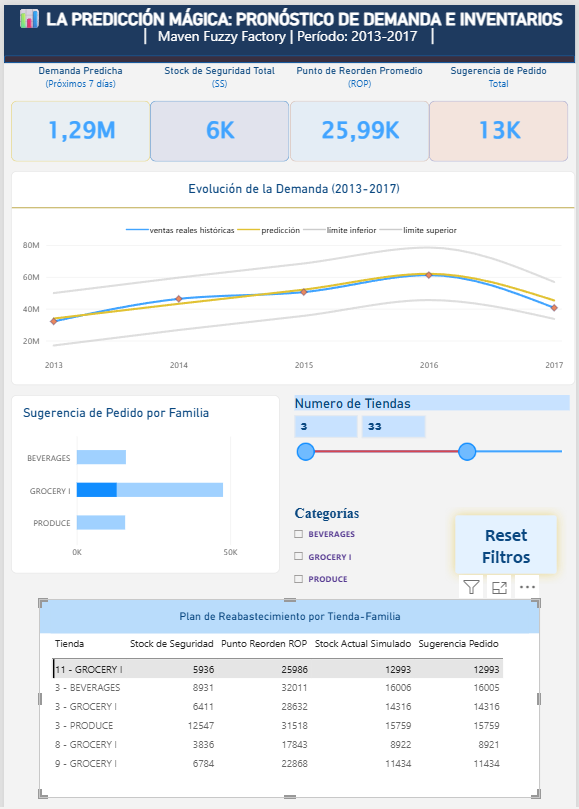

The dashboard page shown, as its layout file describes it:
{"tool":"powerbi","page":{"name":"Page 1","canvas":[816,1200],"ordinal":0},"visuals":[{"type":"shape","title":"📊 LA PREDICCIÓN MÁGICA: PRONÓSTICO DE DEMANDA E INVENTARIOS","box":[0,0,815.7,82.9],"z":0},{"type":"cardVisual","title":"Demanda Predicha ","fields":{"Data":["forecast_diario_powerbi.Demanda Predicha 7d"]},"box":[10.1,85.3,199,138],"z":1000},{"type":"cardVisual","title":"Stock de Seguridad Total","fields":{"Data":["forecast_diario_powerbi.Stock de Seguridad Total"]},"box":[209.2,85.4,199,138],"z":2000},{"type":"cardVisual","title":"Punto de Reorden Promedio","fields":{"Data":["forecast_diario_powerbi.ROP Promedio"]},"box":[408.5,85.4,199,138],"z":3000},{"type":"cardVisual","title":"Sugerencia de Pedido","fields":{"Data":["forecast_diario_powerbi.Sugerencia de Pedido Total"]},"box":[607.7,85.4,199,138],"z":4000},{"type":"lineChart","title":"Evolución de la Demanda (2013-2017)","fields":{"Category":["forecast_diario_powerbi.ds.Variation.Date Hierarchy.Year","forecast_diario_powerbi.ds.Variation.Date Hierarchy.Quarter","forecast_diario_powerbi.ds.Variation.Date Hierarchy.Month","forecast_diario_powerbi.ds.Variation.Date Hierarchy.Day"],"Y":["Sum(forecast_diario_powerbi.y)","Sum(forecast_diario_powerbi.yhat)","Sum(forecast_diario_powerbi.yhat_lower)","Sum(forecast_diario_powerbi.yhat_upper)"]},"box":[10,237.1,806,306],"z":5000},{"type":"slicer","fields":{"Values":["metricas_inventario_powerbi.store_nbr"]},"box":[407.1,557.1,408.6,142.9],"z":6000},{"type":"slicer","fields":{"Values":["forecast_diario_powerbi.family"]},"box":[407.1,714.3,222.9,148.6],"z":7000},{"type":"actionButton","box":[630,714.3,174.3,112.9],"z":8000},{"type":"clusteredBarChart","title":"Sugerencia de Pedido por Familia","fields":{"Category":["metricas_inventario_powerbi.family"],"Y":["forecast_diario_powerbi.Total Sugerencia Pedido"]},"box":[10,557.1,384,255],"z":9000},{"type":"tableEx","title":"Plan de Reabastecimiento por Tienda-Familia","fields":{"Values":["metricas_inventario_powerbi.ID_Tienda_Familia","metricas_inventario_powerbi.Stock_Seguridad_SS","metricas_inventario_powerbi.Punto_Reorden_ROP","metricas_inventario_powerbi.Stock_Actual_Simulado","metricas_inventario_powerbi.Sugerencia_Pedido"]},"box":[50,848.6,711.4,277.1],"z":10000}]}

Visuals, with their boxes on the page's 816x1200 design canvas (x1, y1, x2, y2). These are canvas units, not pixel positions in the 579x809 screenshot, which may show the page scaled, cropped or inside an application window:
"📊 LA PREDICCIÓN MÁGICA: PRONÓSTICO DE DEMANDA E INVENTARIOS" shape: bbox=[0, 0, 816, 83]
"Demanda Predicha " cardVisual: bbox=[10, 85, 209, 223]
"Stock de Seguridad Total" cardVisual: bbox=[209, 85, 408, 223]
"Punto de Reorden Promedio" cardVisual: bbox=[408, 85, 608, 223]
"Sugerencia de Pedido" cardVisual: bbox=[608, 85, 807, 223]
"Evolución de la Demanda (2013-2017)" lineChart: bbox=[10, 237, 816, 543]
slicer - metricas_inventario_powerbi.store_nbr: bbox=[407, 557, 816, 700]
slicer - forecast_diario_powerbi.family: bbox=[407, 714, 630, 863]
actionButton: bbox=[630, 714, 804, 827]
"Sugerencia de Pedido por Familia" clusteredBarChart: bbox=[10, 557, 394, 812]
"Plan de Reabastecimiento por Tienda-Familia" tableEx: bbox=[50, 849, 761, 1126]
